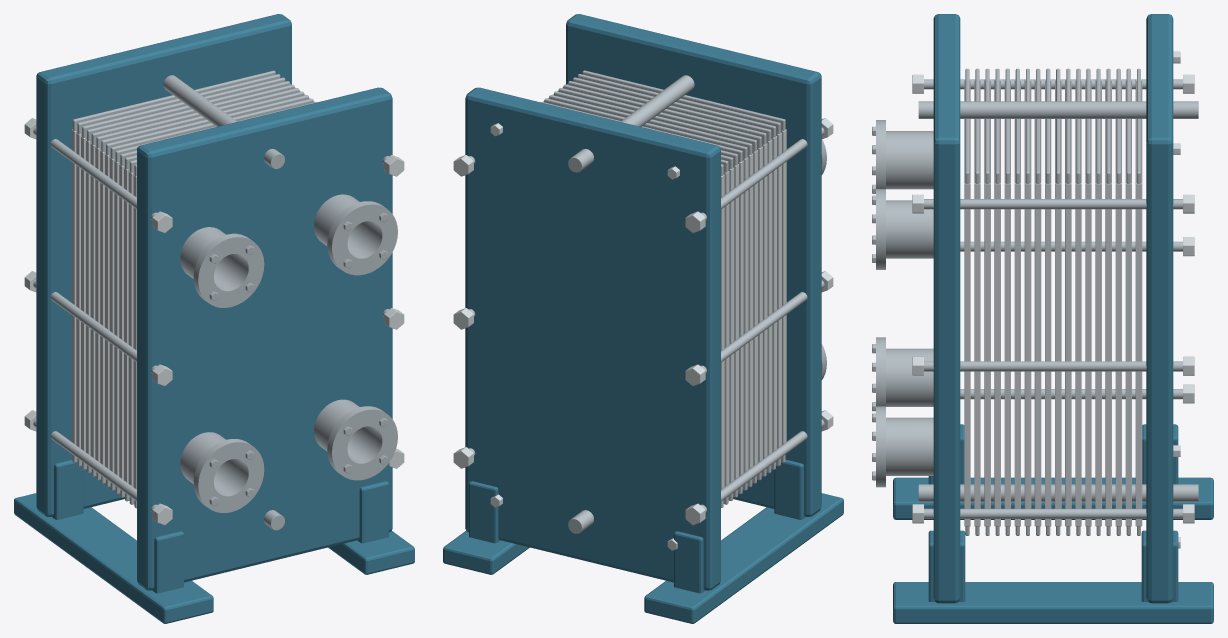
The model's file is city-plate-heat-exchanger.glb.
The picture shows the model from 3 angles, left to right: view 1: azimuth 30°, elevation 25°; view 2: azimuth 150°, elevation 25°; view 3: azimuth 270°, elevation 25°; orthographic projection. The views are drawn at different scales.
Visible parts, largest first — view 1: Assembly | Blue protective equipment finish, Assembly | Satin machined steel, Assembly | Bright fastener metal; view 2: Assembly | Blue protective equipment finish, Assembly | Bright fastener metal, Assembly | Satin machined steel; view 3: Assembly | Blue protective equipment finish, Assembly | Bright fastener metal, Assembly | Satin machined steel.
Boxes of the visible parts, bbox=[...] form: Assembly | Blue protective equipment finish: bbox=[14, 14, 414, 623]; Assembly | Satin machined steel: bbox=[33, 70, 397, 530]; Assembly | Bright fastener metal: bbox=[24, 118, 404, 525]; Assembly | Blue protective equipment finish: bbox=[443, 14, 843, 623]; Assembly | Bright fastener metal: bbox=[453, 118, 833, 550]; Assembly | Satin machined steel: bbox=[468, 70, 826, 533]; Assembly | Blue protective equipment finish: bbox=[893, 14, 1213, 623]; Assembly | Bright fastener metal: bbox=[912, 51, 1194, 548]; Assembly | Satin machined steel: bbox=[872, 68, 1198, 535].
Bounding box in the file's own units: 0.663 × 1.15 × 0.735.
